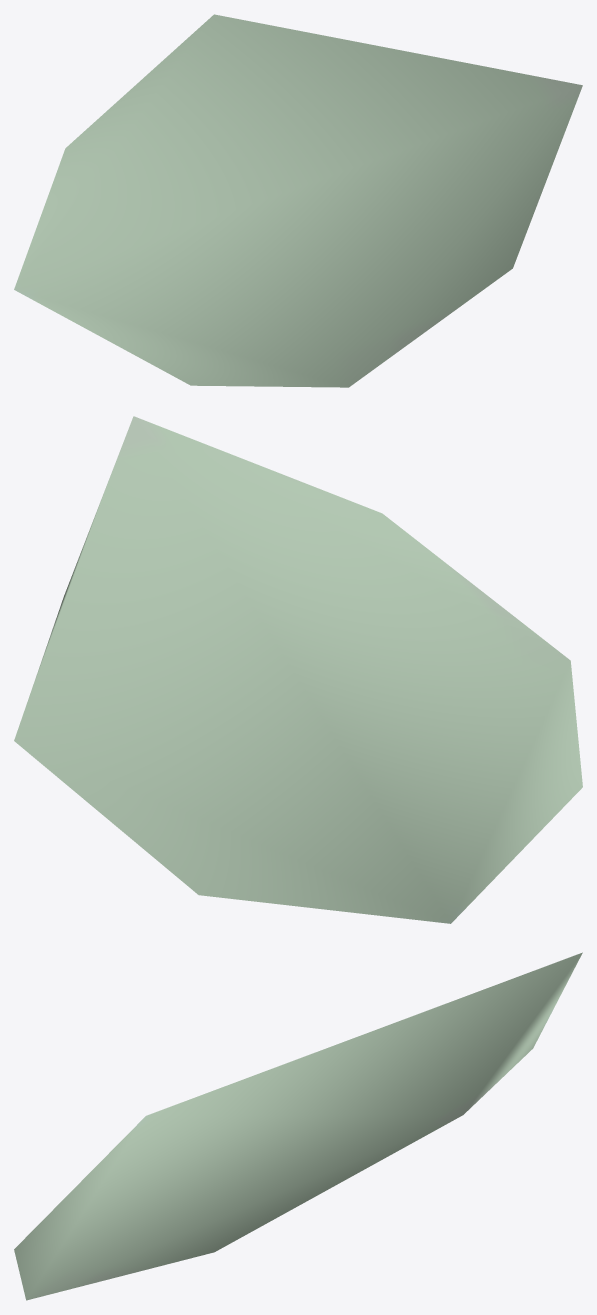
Rendered from TROLLHOLE02_HOLECAP90.fbx.
3 renders of one model, top to bottom at view 1: azimuth 30°, elevation 25°; view 2: azimuth 150°, elevation 25°; view 3: azimuth 330°, elevation 25°, orthographic. The views are drawn at different scales.
Visible parts, largest first — view 1: TROLLHOLE02_HOLECAP90; view 2: TROLLHOLE02_HOLECAP90; view 3: TROLLHOLE02_HOLECAP90.
Boxes of the visible parts, <box> form: TROLLHOLE02_HOLECAP90: <box>14,14,582,387</box>; TROLLHOLE02_HOLECAP90: <box>14,416,582,923</box>; TROLLHOLE02_HOLECAP90: <box>14,952,582,1300</box>.
Size of the model in its own units: 9340 by 4560 by 11774.
Materials: 1 (1 with a texture image).
